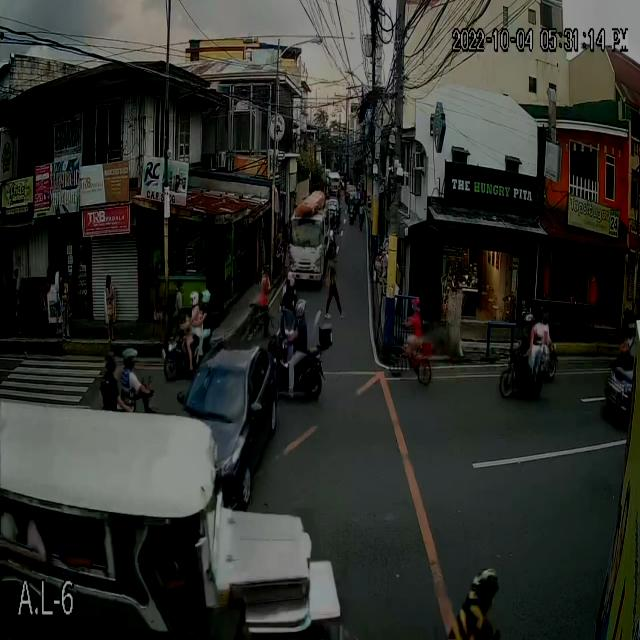Full-Faced: (118, 348, 141, 377), (100, 346, 117, 374), (524, 310, 536, 340), (283, 271, 298, 294), (295, 299, 310, 317), (200, 288, 208, 313), (348, 188, 358, 204), (190, 288, 198, 306)
Invalid: (469, 563, 501, 610)
